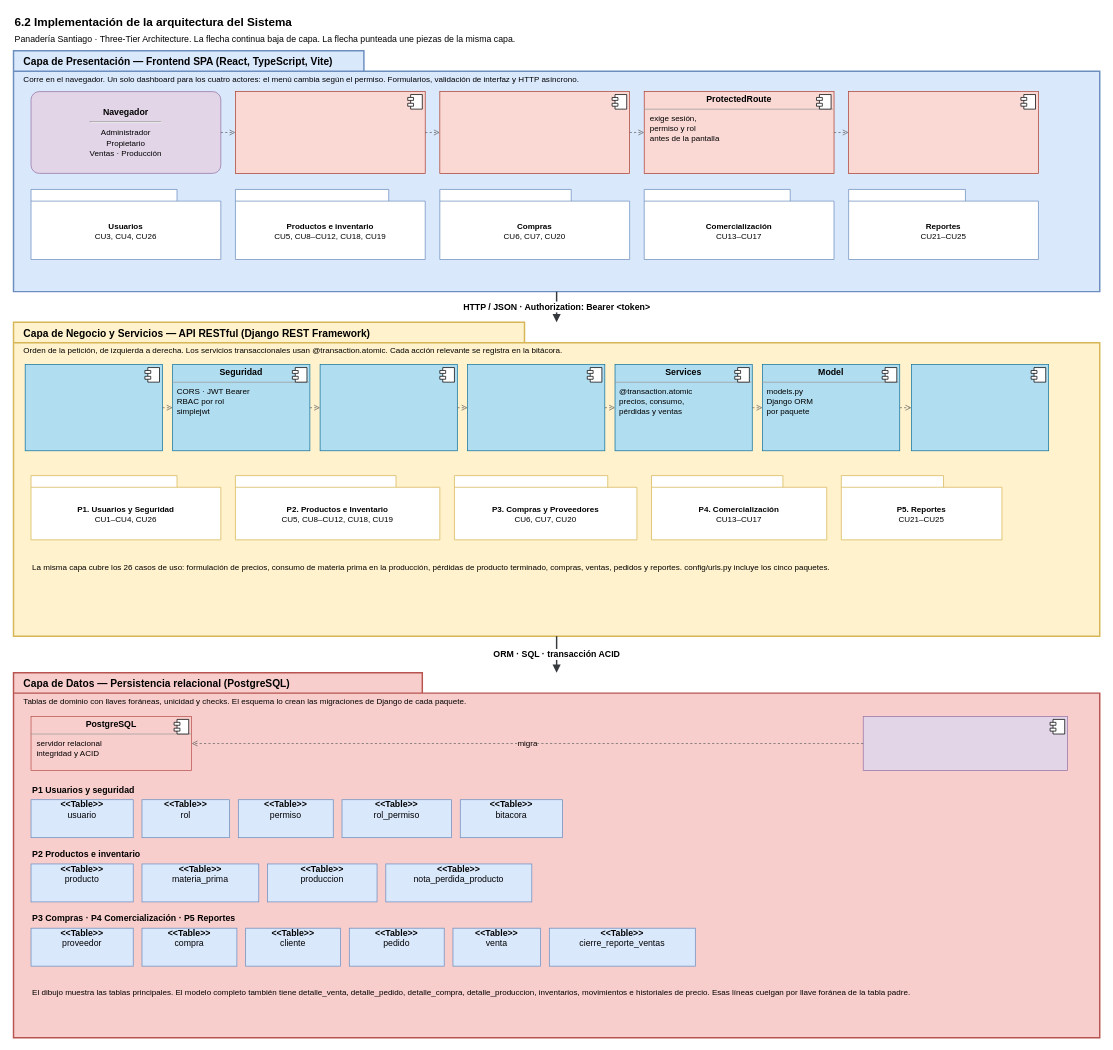
This 1113x1050 diagram has some shape labels left out. The centre of each missing label's shape, as x and y in pixels:
"<<Script>> migrations/ de cada app Django, no un script suelto" goes at pixel 965 743.
"api.ts Axios asíncrono Authorization: Bearer <token>" goes at pixel 943 132.
"Bitácora registra la acción usuario, fecha y tabla afectada" goes at pixel 980 407.
"DashboardLayout Sidebar + Topbar navigation.ts filtra el menú por permiso" goes at pixel 534 132.
"LoginPage.tsx CU1 iniciar sesión CU2 recuperar clave formularios públicos" goes at pixel 330 132.
"Serializers validan la entrada y arman la respuesta JSON" goes at pixel 536 407.
"URLs config/urls.py include de /api/auth y de los 5 paquetes" goes at pixel 93 407.
"Views APIView y ViewSet orquestan la petición HTTP" goes at pixel 388 407.
